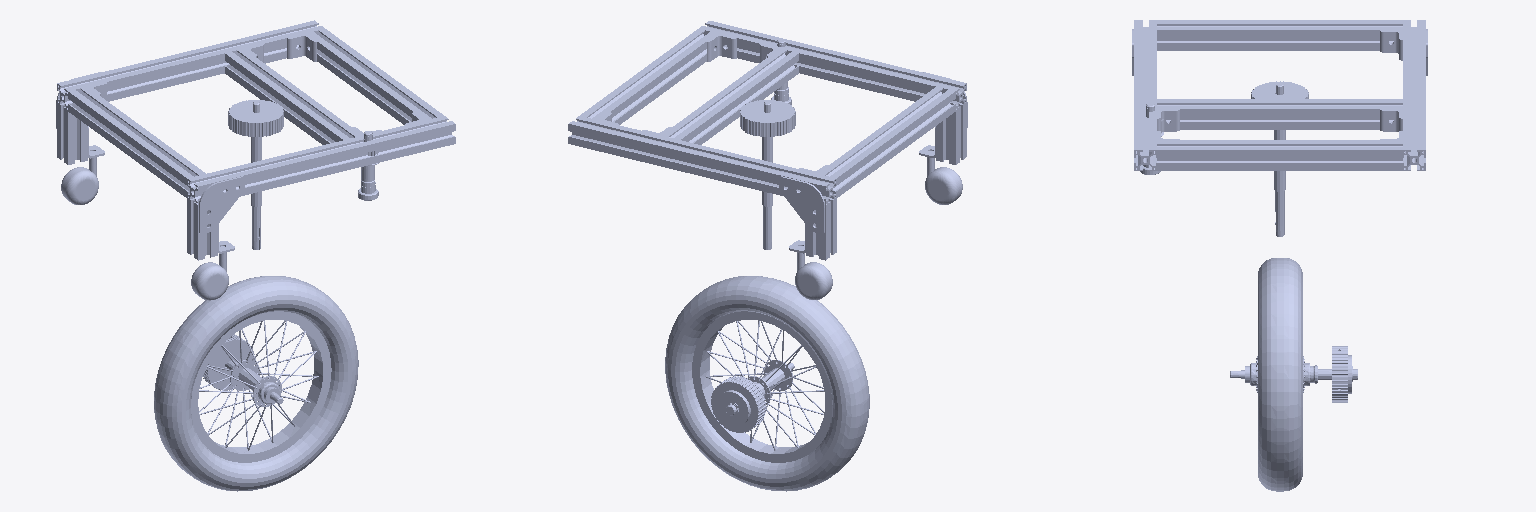
The robot description file, URDF, robot "ROS_Module_Assembly_v8":
<?xml version="1.0" encoding="utf-8"?>
<!-- This URDF was automatically created by SolidWorks to URDF Exporter! Originally created by [author] ([email redacted]) 
     Commit Version: 1.6.0-4-g7f85cfe  Build Version: 1.6.7995.38578
     For more information, please see http://wiki.ros.org/sw_urdf_exporter -->
<robot
  name="ROS_Module_Assembly_v8">
  <link
    name="base_link">
    <inertial>
      <origin
        xyz="0.031724 -0.12886 -0.039095"
        rpy="0 0 0" />
      <mass
        value="2.1961" />
      <inertia
        ixx="0.0063697"
        ixy="3.3879E-05"
        ixz="-1.3091E-07"
        iyy="0.0035478"
        iyz="-1.1651E-06"
        izz="0.009033" />
    </inertial>
    <visual>
      <origin
        xyz="0 0 0"
        rpy="0 0 0" />
      <geometry>
        <mesh
          filename="package://ROS_Module_Assembly_v8/meshes/base_link.STL" />
      </geometry>
      <material
        name="">
        <color
          rgba="0.79216 0.81961 0.93333 1" />
      </material>
    </visual>
    <collision>
      <origin
        xyz="0 0 0"
        rpy="0 0 0" />
      <geometry>
        <mesh
          filename="package://ROS_Module_Assembly_v8/meshes/base_link.STL" />
      </geometry>
    </collision>
  </link>
  <link
    name="input_rot_motor">
    <inertial>
      <origin
        xyz="-4.2772E-05 0.032009 7.4354E-05"
        rpy="0 0 0" />
      <mass
        value="0.025091" />
      <inertia
        ixx="7.1785E-06"
        ixy="6.7784E-10"
        ixz="-1.1692E-08"
        iyy="2.3424E-06"
        iyz="-1.1777E-09"
        izz="7.1921E-06" />
    </inertial>
    <visual>
      <origin
        xyz="0 0 0"
        rpy="0 0 0" />
      <geometry>
        <mesh
          filename="package://ROS_Module_Assembly_v8/meshes/input_rot_motor.STL" />
      </geometry>
      <material
        name="">
        <color
          rgba="0.79216 0.81961 0.93333 1" />
      </material>
    </visual>
    <collision>
      <origin
        xyz="0 0 0"
        rpy="0 0 0" />
      <geometry>
        <mesh
          filename="package://ROS_Module_Assembly_v8/meshes/input_rot_motor.STL" />
      </geometry>
    </collision>
  </link>
  <joint
    name="base_to_input_rot_motor"
    type="continuous">
    <origin
      xyz="-0.00425 -0.18427 -0.009"
      rpy="1.5708 0 -1.5708" />
    <parent
      link="base_link" />
    <child
      link="input_rot_motor" />
    <axis
      xyz="0 1 0" />
  </joint>
  <link
    name="input_transl_motor">
    <inertial>
      <origin
        xyz="-1.865E-05 0.047153 -6.6546E-05"
        rpy="0 0 0" />
      <mass
        value="0.032255" />
      <inertia
        ixx="1.5951E-05"
        ixy="1.8513E-09"
        ixz="3.575E-09"
        iyy="2.7304E-06"
        iyz="6.6055E-09"
        izz="1.5963E-05" />
    </inertial>
    <visual>
      <origin
        xyz="0 0 0"
        rpy="0 0 0" />
      <geometry>
        <mesh
          filename="package://ROS_Module_Assembly_v8/meshes/input_transl_motor.STL" />
      </geometry>
      <material
        name="">
        <color
          rgba="0.79216 0.81961 0.93333 1" />
      </material>
    </visual>
    <collision>
      <origin
        xyz="0 0 0"
        rpy="0 0 0" />
      <geometry>
        <mesh
          filename="package://ROS_Module_Assembly_v8/meshes/input_transl_motor.STL" />
      </geometry>
    </collision>
  </link>
  <joint
    name="base_to_transl_input"
    type="continuous">
    <origin
      xyz="0.07615 -0.16897 -0.008"
      rpy="1.5708 0 -1.8542" />
    <parent
      link="base_link" />
    <child
      link="input_transl_motor" />
    <axis
      xyz="0 1 0" />
  </joint>
  <link
    name="fork">
    <inertial>
      <origin
        xyz="9.7197E-05 0.019855 -0.17644"
        rpy="0 0 0" />
      <mass
        value="2.1939" />
      <inertia
        ixx="0.0090617"
        ixy="-1.5464E-08"
        ixz="4.262E-06"
        iyy="0.01149"
        iyz="2.9335E-05"
        izz="0.0039097" />
    </inertial>
    <visual>
      <origin
        xyz="0 0 0"
        rpy="0 0 0" />
      <geometry>
        <mesh
          filename="package://ROS_Module_Assembly_v8/meshes/fork.STL" />
      </geometry>
      <material
        name="">
        <color
          rgba="0.79216 0.81961 0.93333 1" />
      </material>
    </visual>
    <collision>
      <origin
        xyz="0 0 0"
        rpy="0 0 0" />
      <geometry>
        <mesh
          filename="package://ROS_Module_Assembly_v8/meshes/fork.STL" />
      </geometry>
    </collision>
  </link>
  <joint
    name="base_to_rot_fork"
    type="continuous">
    <origin
      xyz="0 0 0"
      rpy="0 0 0" />
    <parent
      link="base_link" />
    <child
      link="fork" />
    <axis
      xyz="0 0 1" />
  </joint>
  <link
    name="wheel">
    <inertial>
      <origin
        xyz="-3.0377E-06 -3.9614E-06 -0.0039564"
        rpy="0 0 0" />
      <mass
        value="2.0757" />
      <inertia
        ixx="0.016615"
        ixy="-4.0151E-09"
        ixz="9.5859E-08"
        iyy="0.016615"
        iyz="1.5018E-09"
        izz="0.0323" />
    </inertial>
    <visual>
      <origin
        xyz="0 0 0"
        rpy="0 0 0" />
      <geometry>
        <mesh
          filename="package://ROS_Module_Assembly_v8/meshes/wheel.STL" />
      </geometry>
      <material
        name="">
        <color
          rgba="0.79216 0.81961 0.93333 1" />
      </material>
    </visual>
    <collision>
      <origin
        xyz="0 0 0"
        rpy="0 0 0" />
      <geometry>
        <mesh
          filename="package://ROS_Module_Assembly_v8/meshes/wheel.STL" />
      </geometry>
    </collision>
  </link>
  <joint
    name="fork_to_wheel"
    type="continuous">
    <origin
      xyz="0 0.0005 -0.336"
      rpy="1.5708 0 0" />
    <parent
      link="fork" />
    <child
      link="wheel" />
    <axis
      xyz="0 0 -1" />
  </joint>
  <link
    name="vert_bevel_shaft">
    <inertial>
      <origin
        xyz="-2.1092E-05 1.2062E-06 -0.034965"
        rpy="0 0 0" />
      <mass
        value="0.11927" />
      <inertia
        ixx="0.00012323"
        ixy="-6.9262E-10"
        ixz="4.6605E-08"
        iyy="0.00012322"
        iyz="-2.6667E-09"
        izz="6.1731E-05" />
    </inertial>
    <visual>
      <origin
        xyz="0 0 0"
        rpy="0 0 0" />
      <geometry>
        <mesh
          filename="package://ROS_Module_Assembly_v8/meshes/vert_bevel_shaft.STL" />
      </geometry>
      <material
        name="">
        <color
          rgba="0.79216 0.81961 0.93333 1" />
      </material>
    </visual>
    <collision>
      <origin
        xyz="0 0 0"
        rpy="0 0 0" />
      <geometry>
        <mesh
          filename="package://ROS_Module_Assembly_v8/meshes/vert_bevel_shaft.STL" />
      </geometry>
    </collision>
  </link>
  <joint
    name="base_to_rot_bevel_shaft"
    type="continuous">
    <origin
      xyz="0 0 0"
      rpy="3.1416 0 -1.5708" />
    <parent
      link="base_link" />
    <child
      link="vert_bevel_shaft" />
    <axis
      xyz="0 0 -1" />
  </joint>
</robot>

--- Facts derived from the render (not from the file) ---
Views: 3 orthographic renders of the robot side by side, from view 1: azimuth 30°, elevation 25°; view 2: azimuth 150°, elevation 25°; view 3: azimuth 270°, elevation 25°.
Model ROS_Module_Assembly_v8 with 6 links and 5 joints (5 continuous), rooted at base_link, posed all joints at 0.
Visible links, largest first — view 1: base_link, wheel, vert_bevel_shaft, input_transl_motor; view 2: base_link, wheel, vert_bevel_shaft; view 3: base_link, wheel, vert_bevel_shaft.
Link boxes in pixels (x1,y1,x2,y2): base_link: [56, 20, 455, 300]; wheel: [154, 276, 358, 491]; vert_bevel_shaft: [228, 100, 283, 249]; input_transl_motor: [358, 131, 378, 200]; base_link: [568, 21, 967, 299]; wheel: [665, 276, 869, 491]; vert_bevel_shaft: [740, 100, 795, 249]; base_link: [1132, 20, 1427, 170]; wheel: [1230, 258, 1357, 491]; vert_bevel_shaft: [1251, 81, 1308, 236].
Size in the robot's own frame: 0.4 by 0.386 by 0.5765 metres.
Meshes: 6 distinct files referenced, 4 mesh visuals loaded (4 binary STL); not drawn: 2 (reference not matched to a file when rendering).